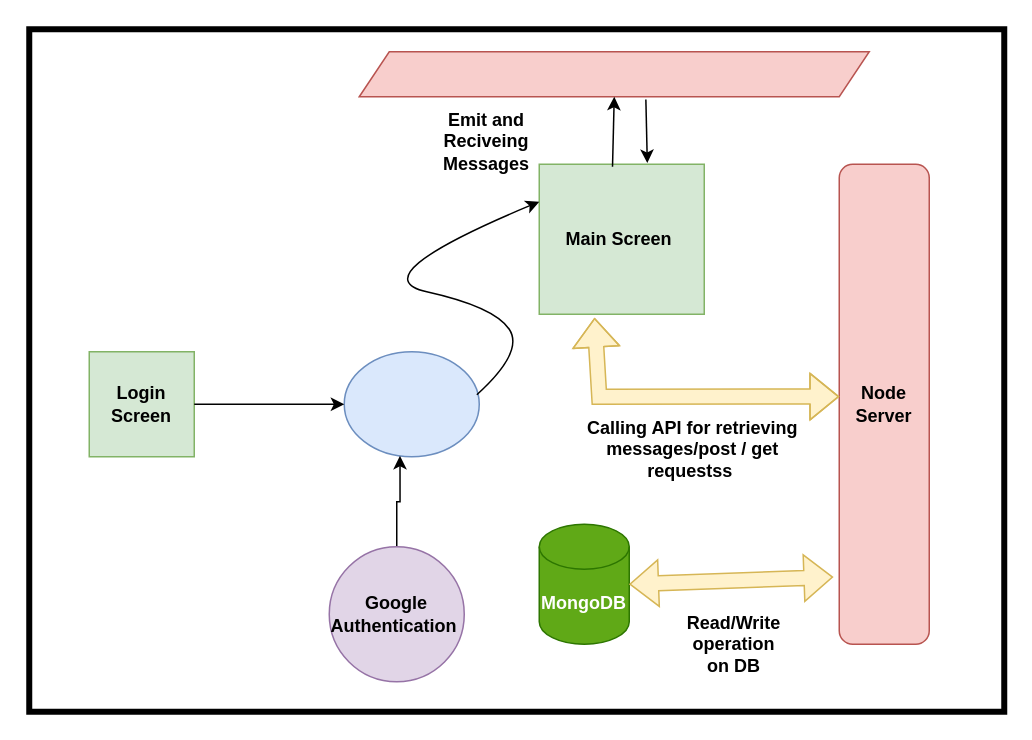
Image size: 1032x740. Some labels were removed from this diagram. The shapes that lost their labels are listed below. From the top down, each one's centre as x and y in pixels, then its label:
At point 613,73: "Socket Server".
At point 411,403: "Save User Context".
